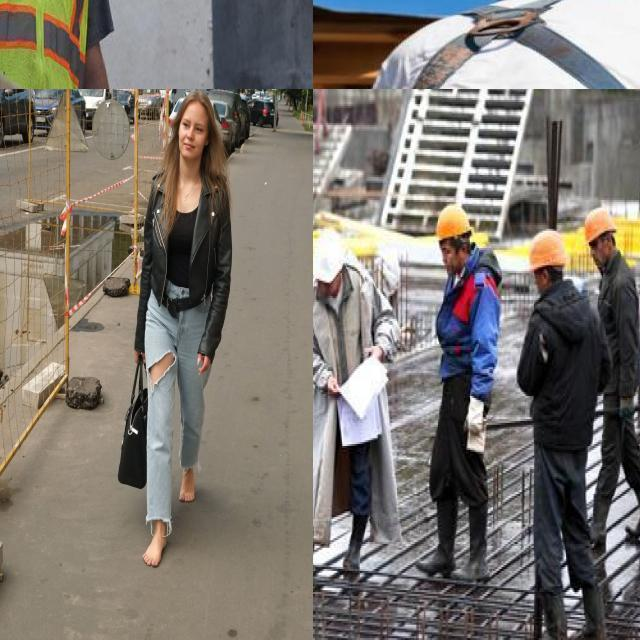Barefoots: (143, 528, 166, 567), (179, 466, 195, 502)
Harness: (412, 0, 627, 89)
boots: (413, 488, 459, 582), (453, 494, 491, 586), (565, 579, 611, 640), (522, 589, 573, 640), (621, 490, 640, 545)
hand_glove: (464, 396, 488, 448)
hand_noglove: (324, 375, 346, 404)
head_helmet: (526, 229, 572, 271), (313, 227, 347, 281), (432, 202, 472, 240), (582, 206, 620, 244)
person: (519, 223, 608, 640), (428, 200, 503, 582), (313, 221, 388, 578), (593, 205, 640, 540), (0, 0, 120, 89)
shoes: (339, 534, 366, 578), (313, 540, 319, 580)
vest: (0, 0, 97, 89)
